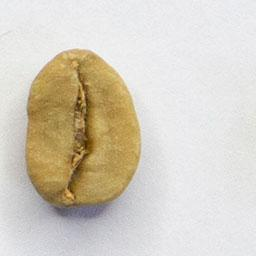defect: (22, 45, 144, 212)
